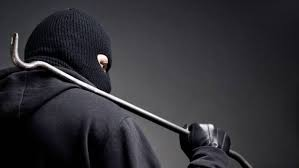crowbar: (8, 30, 255, 167)
